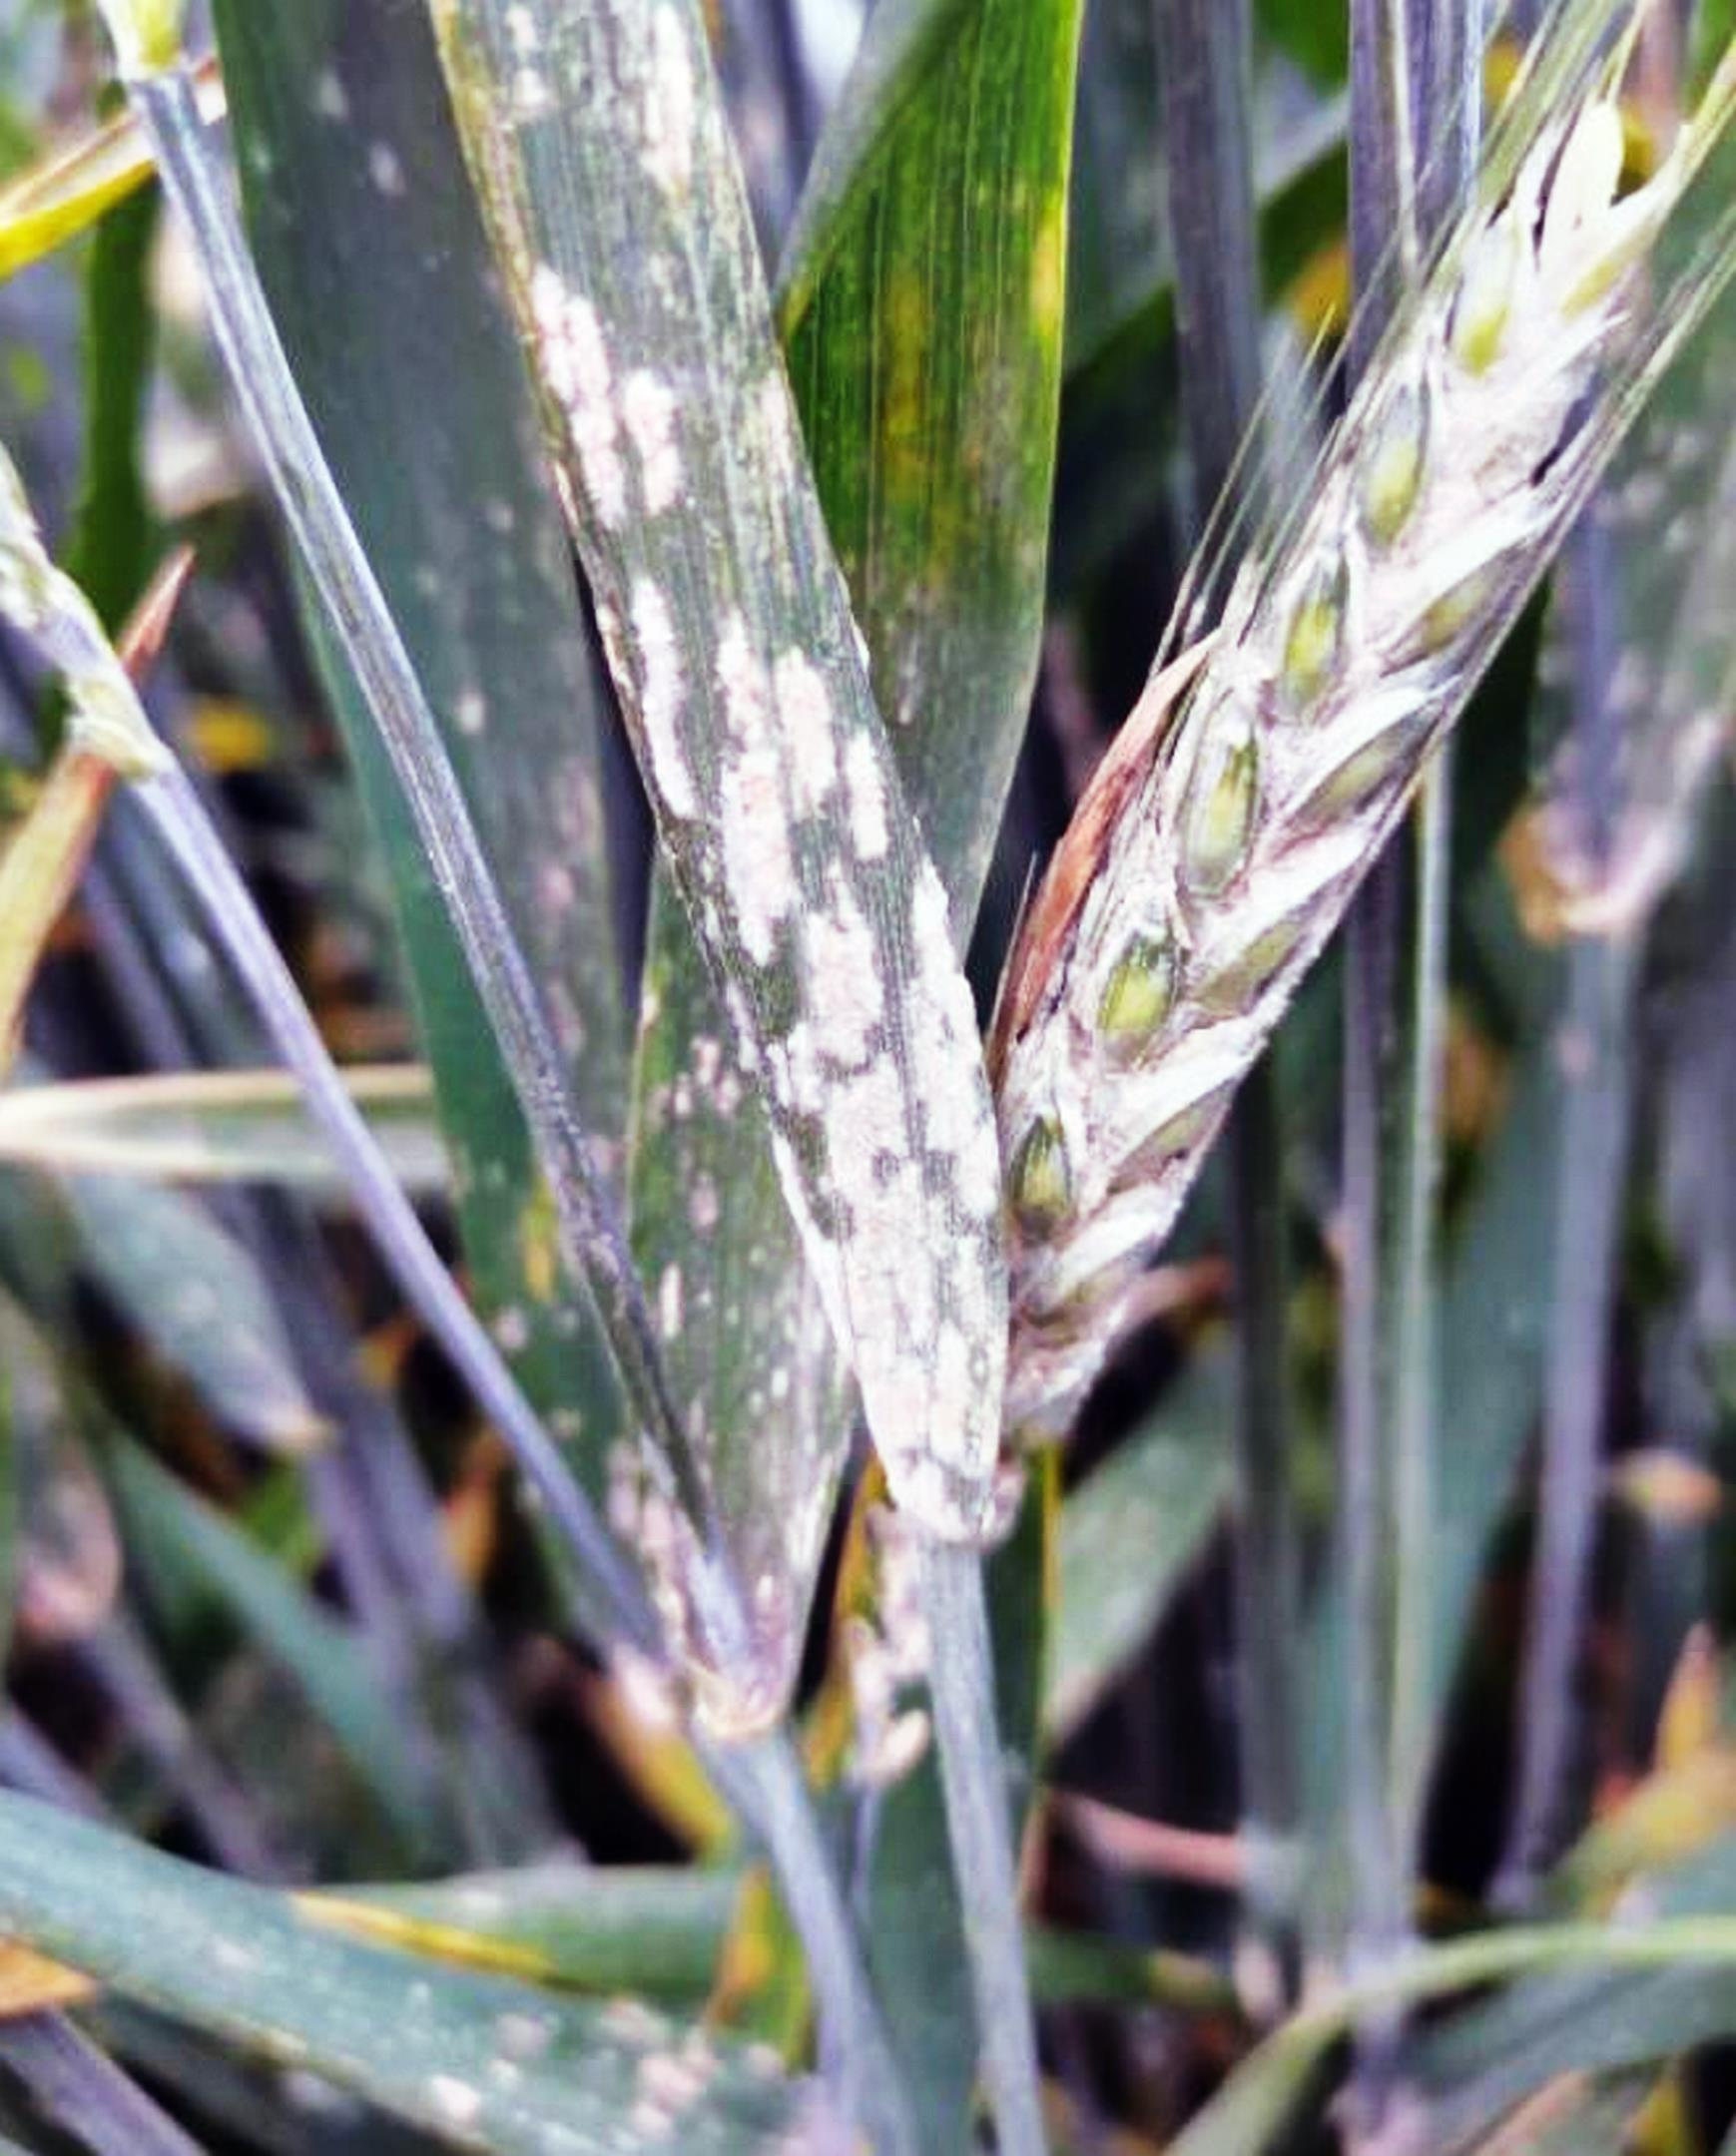Powdery Mildew: (521, 340, 1036, 1433)
